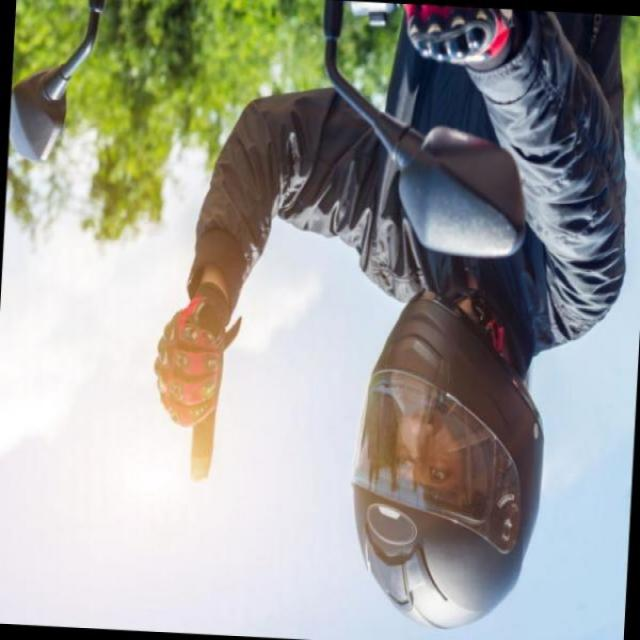Helmet: (339, 284, 560, 634)
